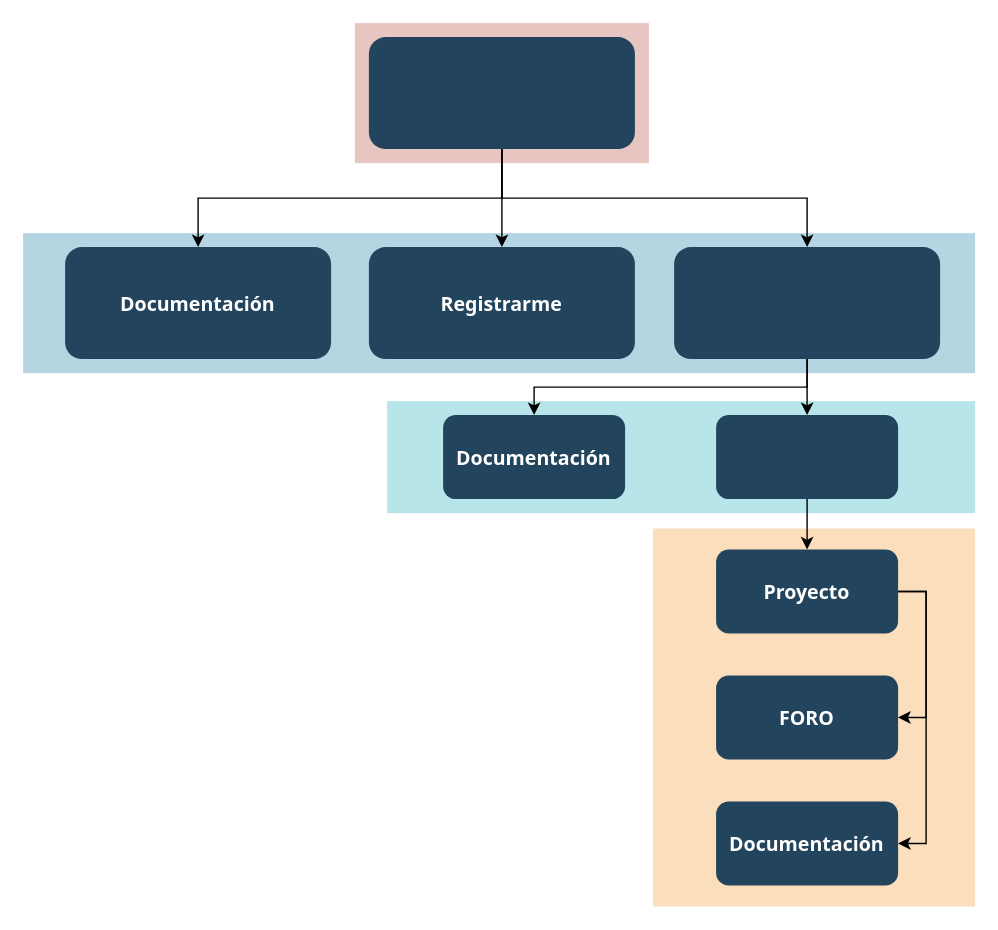
The diagram is 998 pixels wide and 930 high, and some of its shapes have lost their labels. Here are the shapes that lost their labels. From the top down, the centre of each, then its label:
point 501,92: Landing Page
point 806,302: Ingresar
point 806,456: Proyectos
